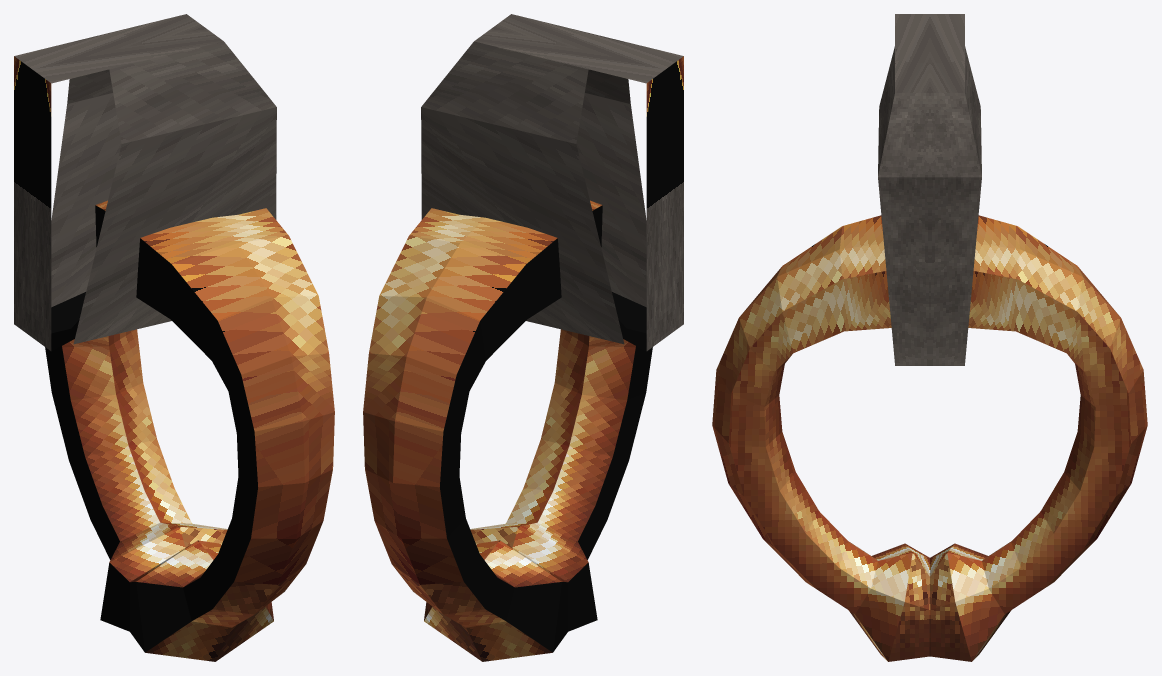
File: doorknob.glb
3 views of the same model, side by side, from view 1: azimuth 30°, elevation 25°; view 2: azimuth 150°, elevation 25°; view 3: azimuth 270°, elevation 25° (orthographic). The views are drawn at different scales.
Parts seen in each view (by area): view 1: Cube; view 2: Cube; view 3: Cube.
Boxes of the visible parts, bbox=[...] form: Cube: bbox=[14, 14, 334, 661]; Cube: bbox=[363, 14, 683, 661]; Cube: bbox=[712, 14, 1147, 661].
Size of the model in its own units: 0.2497 by 0.6501 by 0.4506.
Materials: 1 (1 with a texture image).
